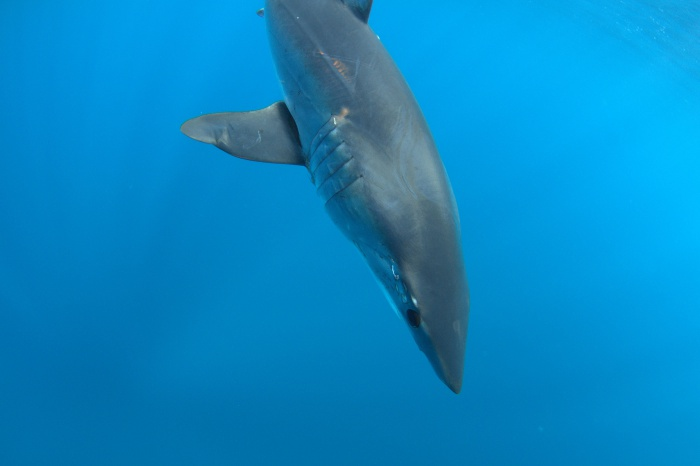Mako: (179, 1, 530, 431)
